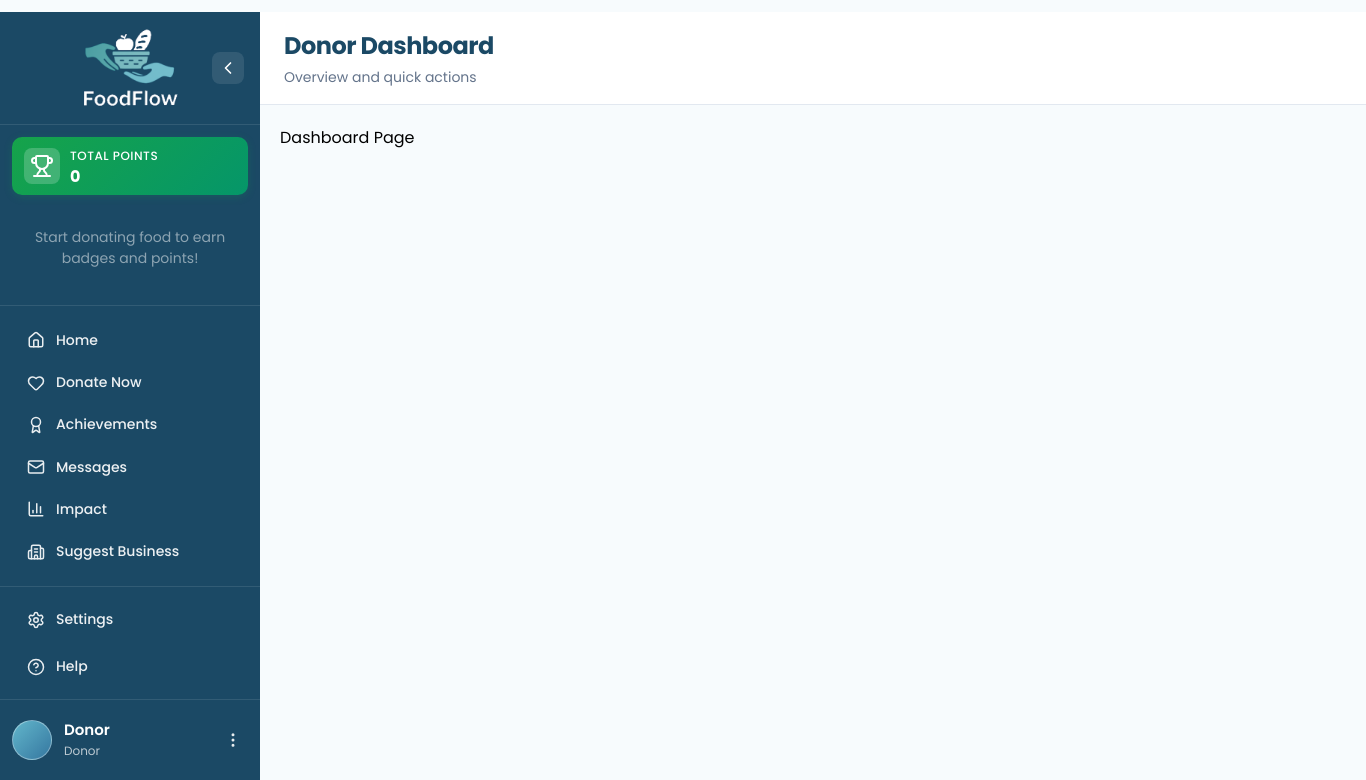
DonorLayout › navigates to Messages when Messages item clicked
What coordinates should you click on to do the following:
click the link "Messages"
I would click on:
 (77, 467)
Its box is [27, 457, 127, 477].
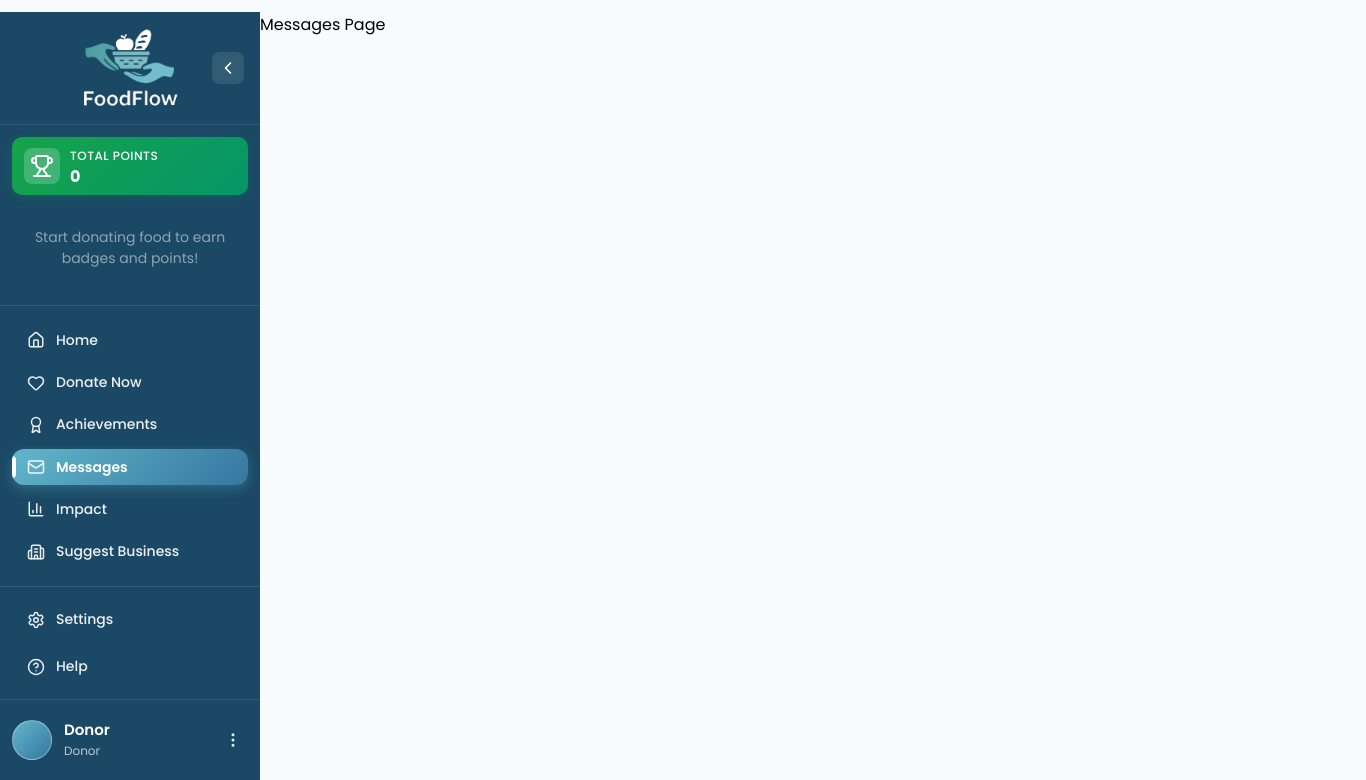
Expected: the text "Messages Page" is shown, [260, 13, 385, 36]
Expected: the text "Overview and quick actions" is gone
